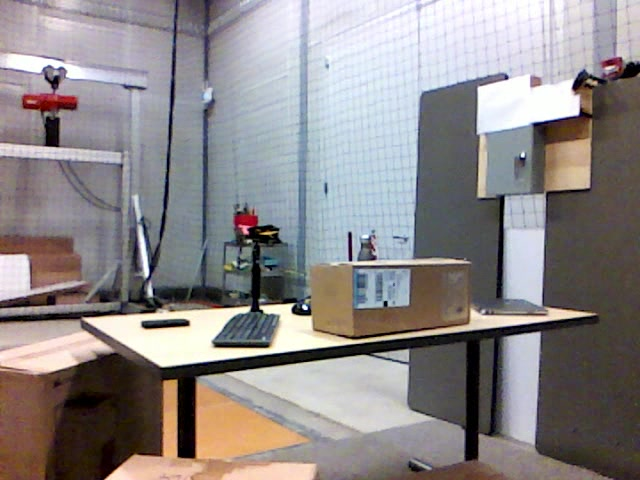box: (2, 332, 164, 480), (312, 257, 470, 336)
